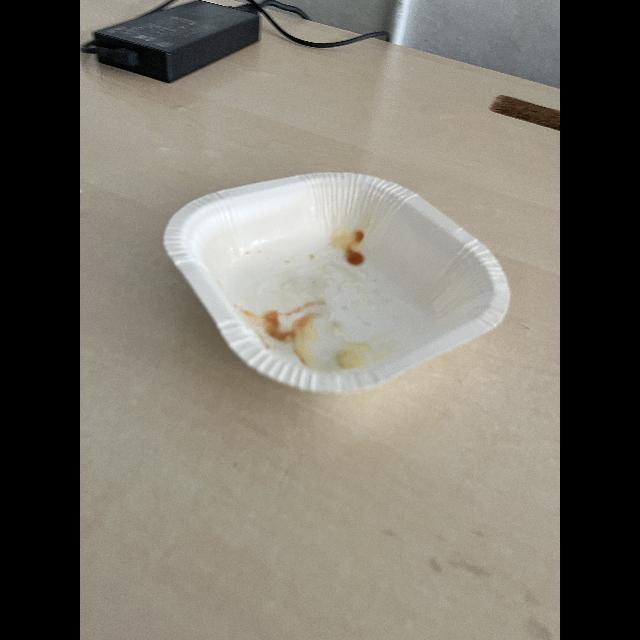cardboard_bowl: (157, 159, 518, 403)
